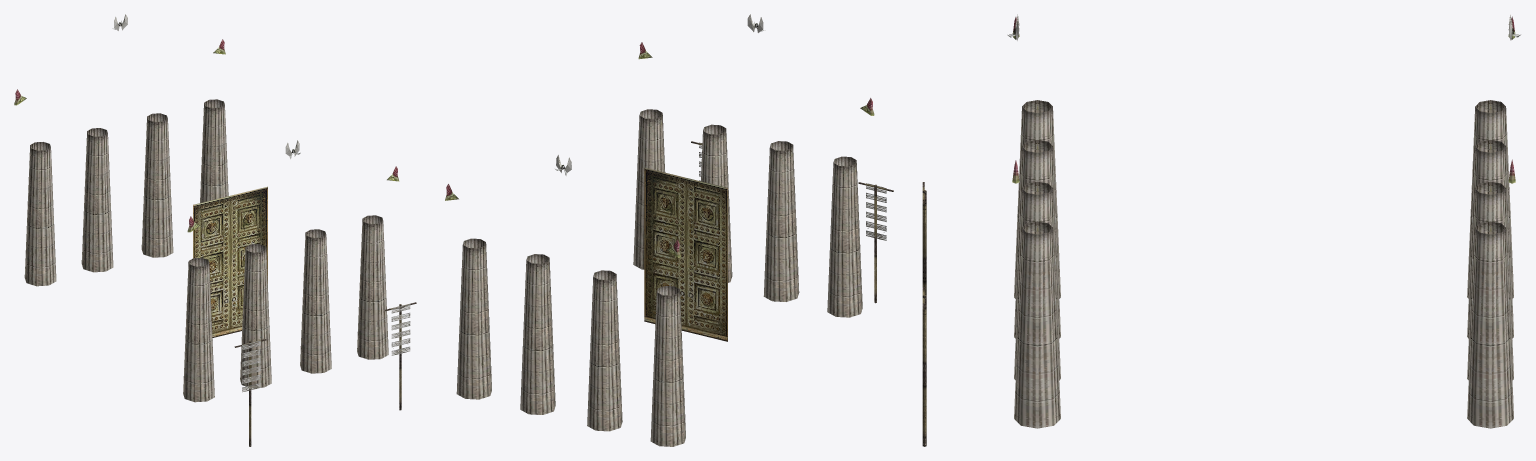
File: hele_temple_b_props.dae
The picture shows the model from 3 angles, left to right: view 1: azimuth 30°, elevation 25°; view 2: azimuth 150°, elevation 25°; view 3: azimuth 270°, elevation 25°; orthographic projection. The views are drawn at different scales.
Visible parts, largest first — view 1: props; view 2: props; view 3: props.
Boxes of the visible parts, x1,y1,x2,y2 form: props: [14, 14, 416, 446]; props: [445, 14, 893, 446]; props: [922, 14, 1520, 446].
Size of the model in its own units: 15.04 by 25.82 by 17.9.
